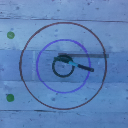Axe Tip: (58, 57, 71, 60)
